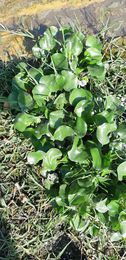water_hyacinth: (5, 21, 126, 217)
